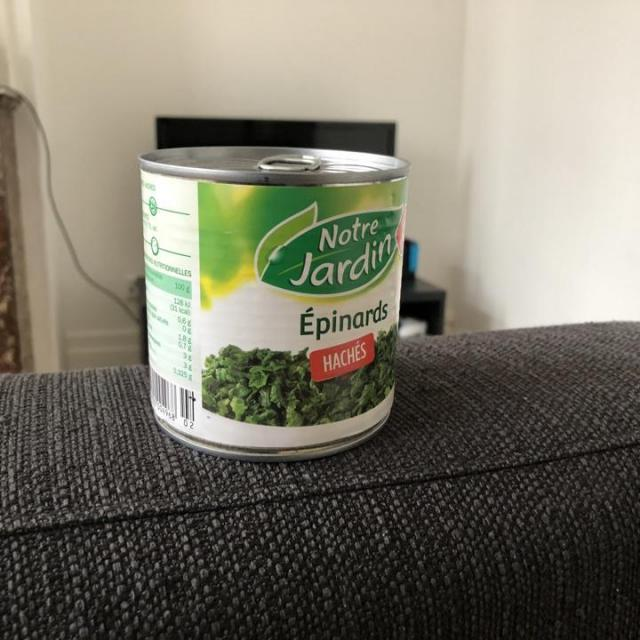recyclable: (130, 128, 408, 470)
